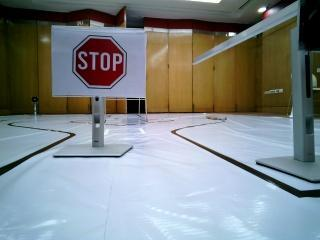stop: (59, 29, 143, 88)
